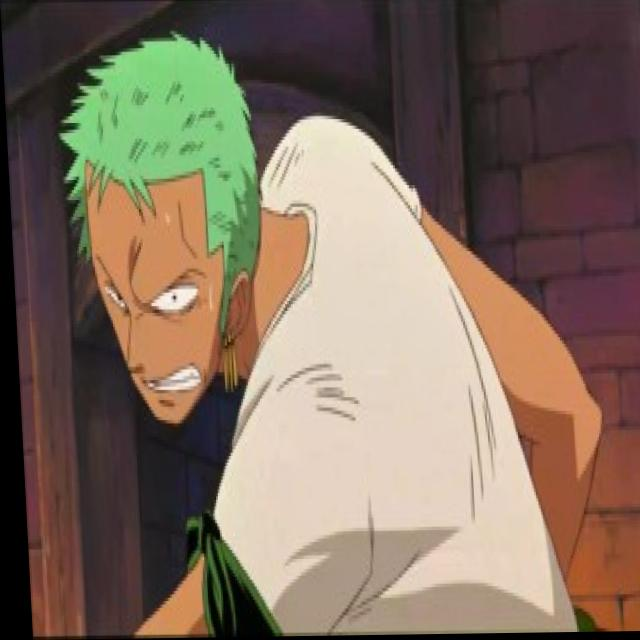Zoro: (51, 19, 276, 438)
